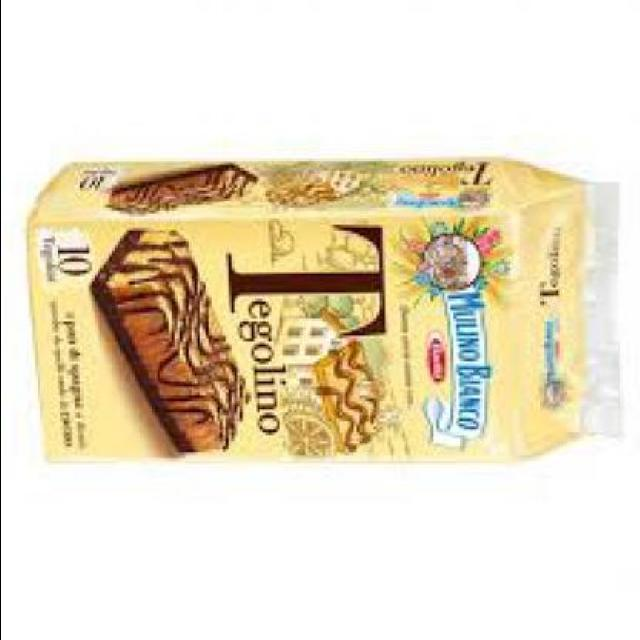Merendine: (25, 156, 626, 470)
